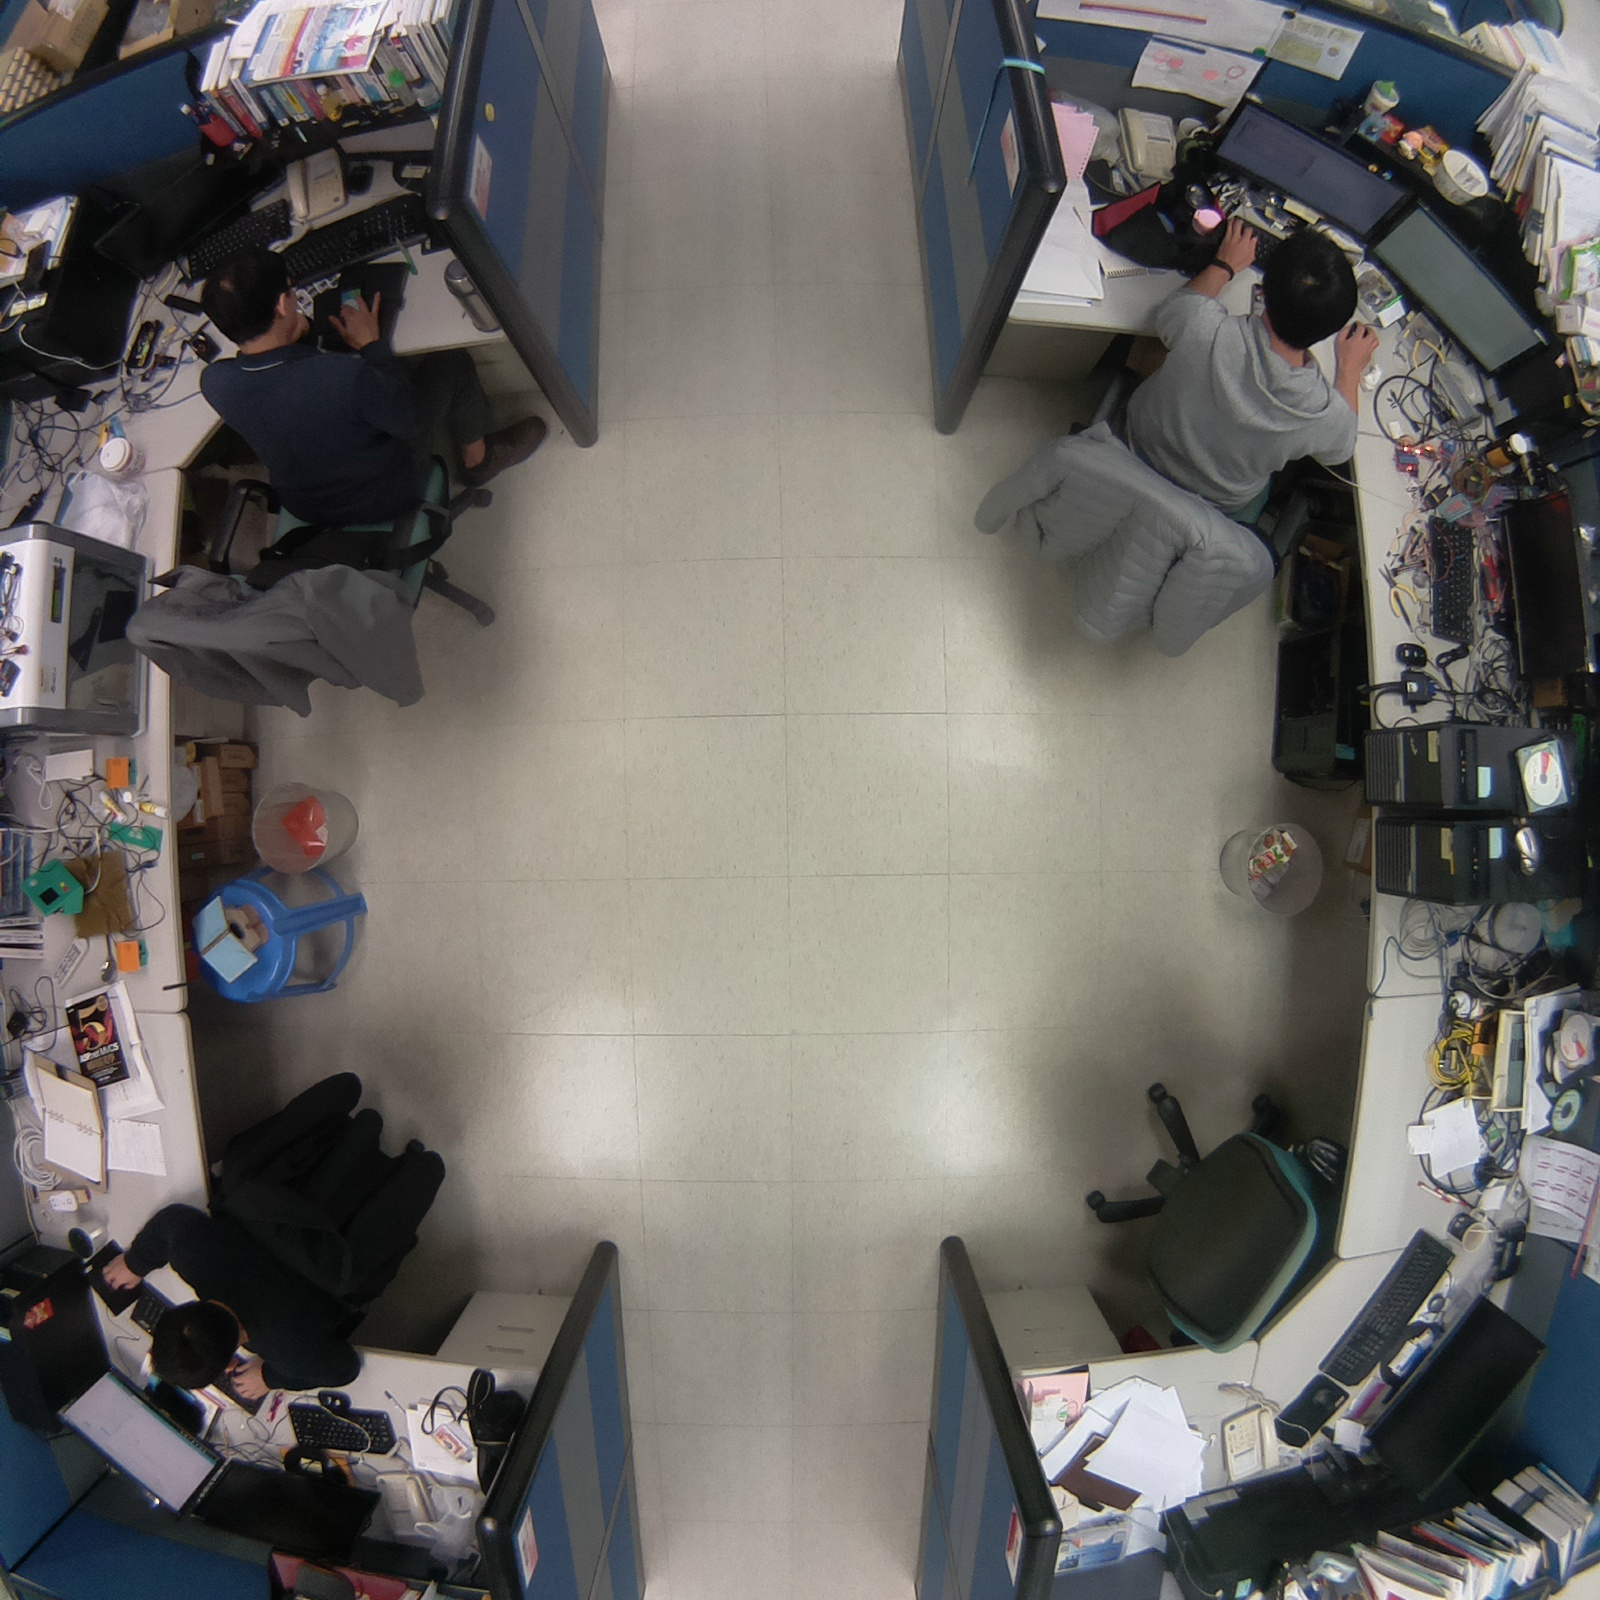chair: (1073, 1060, 1353, 1368)
head: (191, 236, 312, 361), (1249, 225, 1366, 355), (146, 1291, 249, 1397)
sitting: (114, 235, 558, 727), (970, 211, 1379, 670), (98, 1063, 455, 1406)
